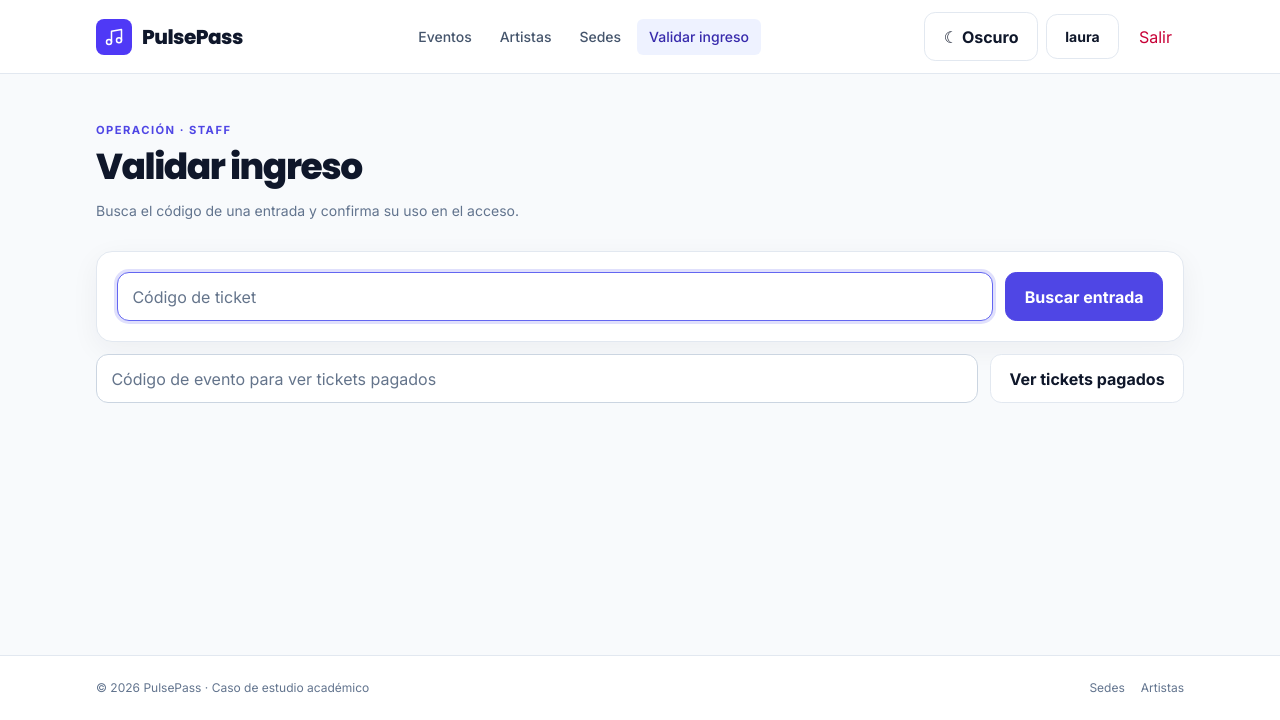
Scenario: STAFF: validación de ingreso › un ticket inexistente muestra «Ticket no encontrado»
The width and height of the screenshot is (1280, 720).
Type "TKT-NOEXISTE" into the field named "Código del ticket" at (555, 297), box [117,272,993,321]
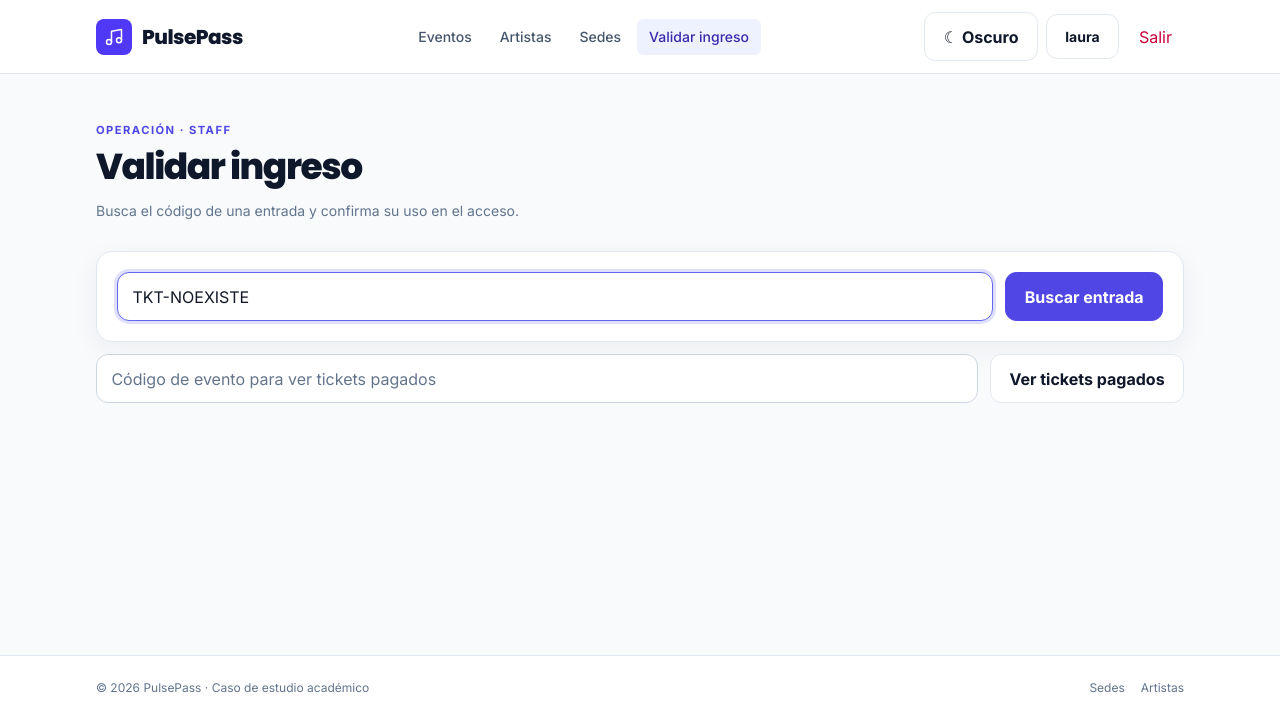
Click the button "Buscar entrada" at (1084, 297), box [1005,272,1163,321]
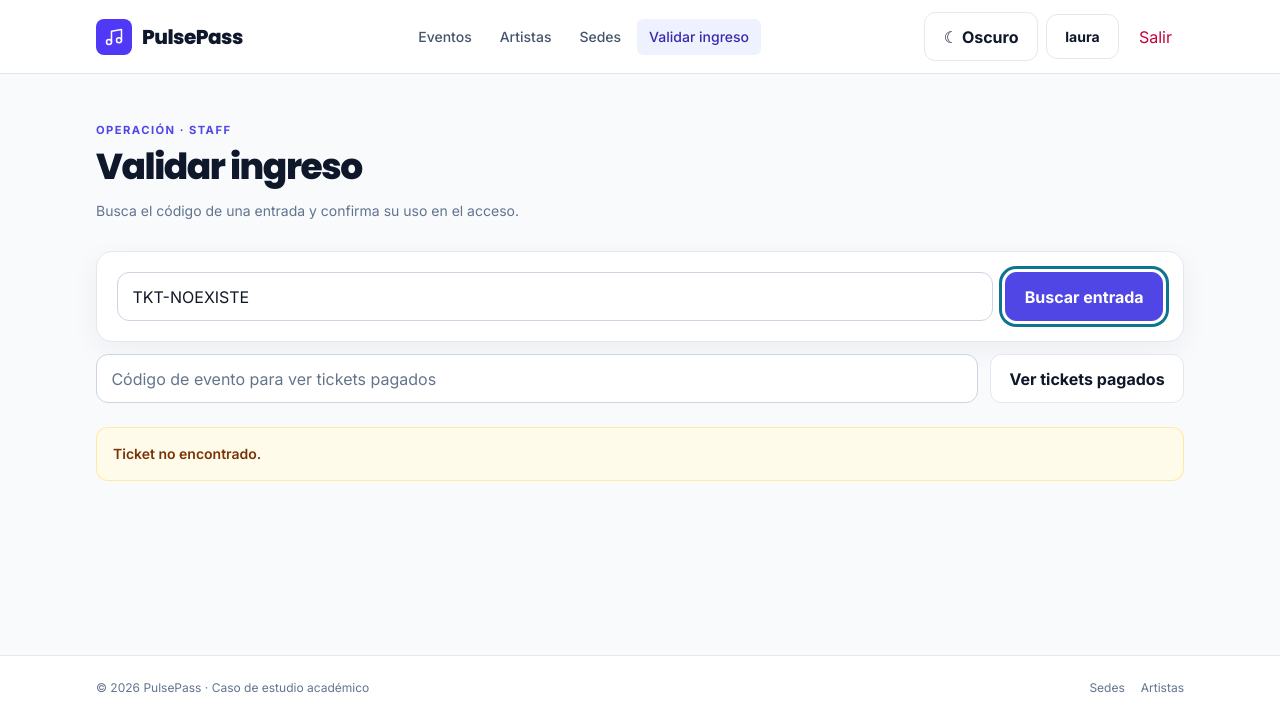
expect the text "Ticket no encontrado." is shown: met, box [96,427,1184,481]
